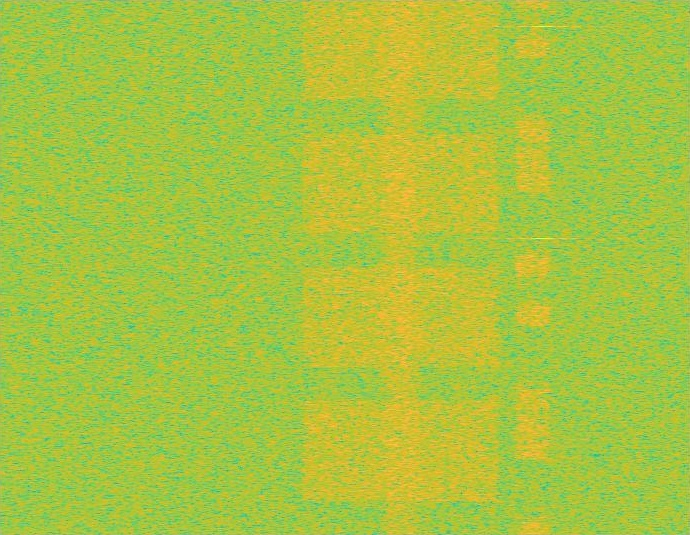5G: (297, 0, 504, 534)
DSSS: (378, 0, 424, 534)
LTE: (516, 0, 550, 534)
Radar: (536, 0, 550, 534)
